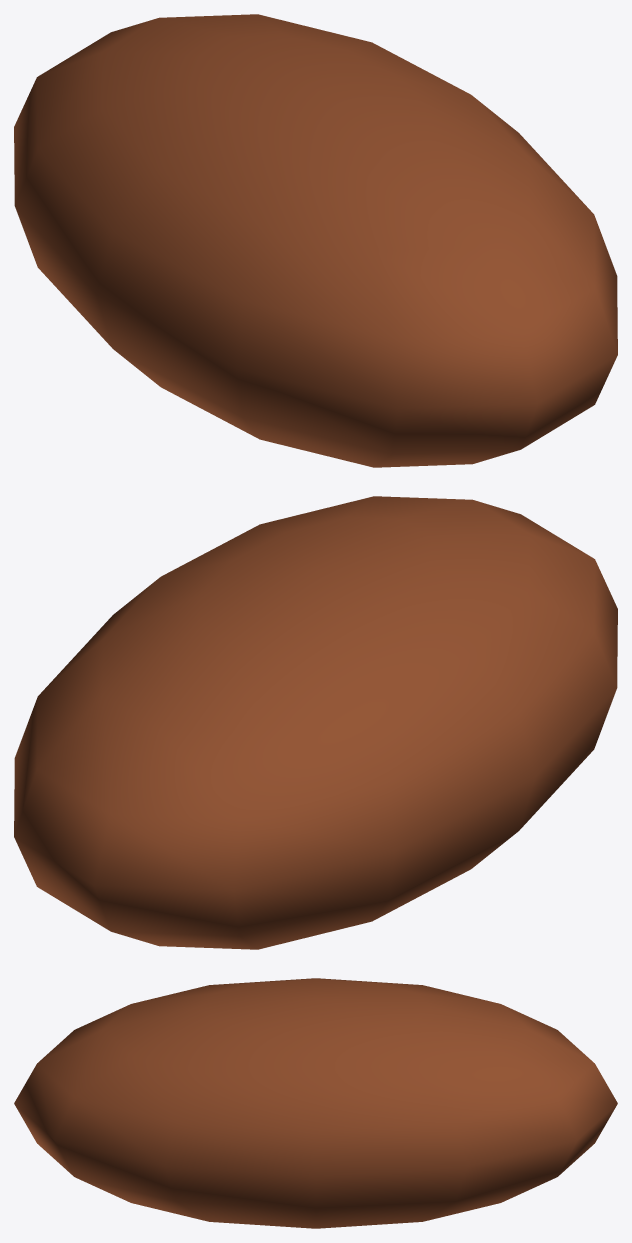
File: bakery_item.glb
3 renders of one model, top to bottom at view 1: azimuth 30°, elevation 25°; view 2: azimuth 150°, elevation 25°; view 3: azimuth 270°, elevation 25°, orthographic. The views are drawn at different scales.
Visible parts, largest first — view 1: Bakery loaf.080; view 2: Bakery loaf.080; view 3: Bakery loaf.080.
Boxes of the visible parts, x1,y1,x2,y2 form: Bakery loaf.080: (14,14,617,467); Bakery loaf.080: (14,496,617,949); Bakery loaf.080: (14,978,617,1228).
Bounding box in the file's own units: 0.24 × 0.16 × 0.42.
